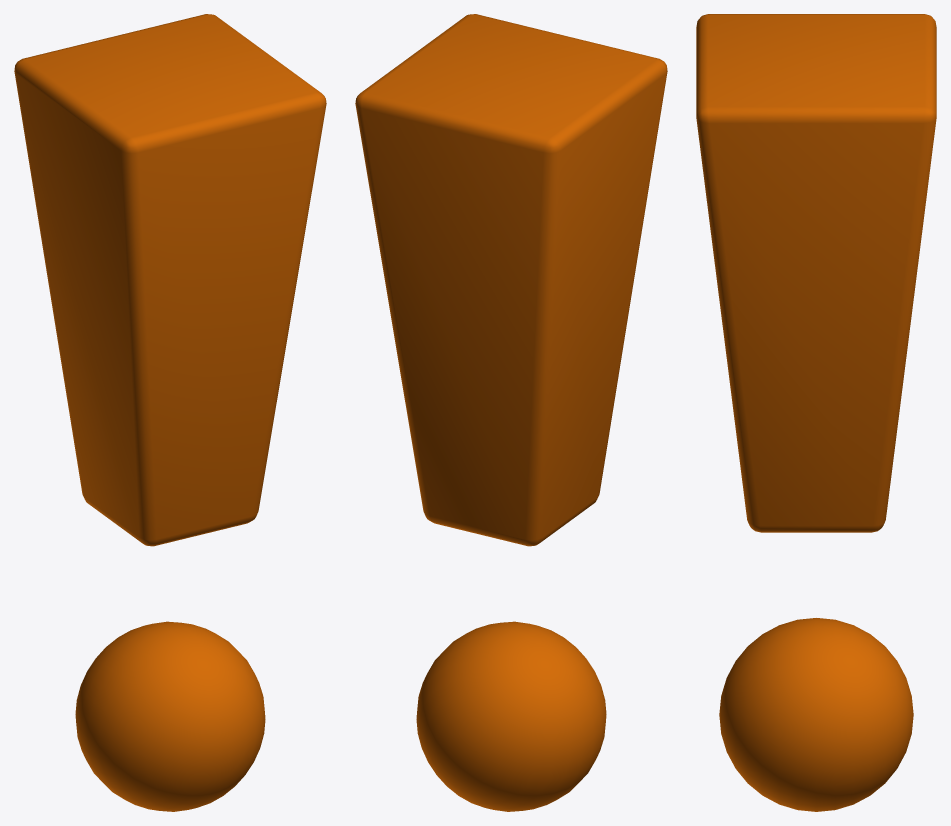
Rendered from HinweisSymbol.glb.
3 renders of one model, left to right at view 1: azimuth 30°, elevation 25°; view 2: azimuth 150°, elevation 25°; view 3: azimuth 270°, elevation 25°, orthographic. The views are drawn at different scales.
Parts seen in each view (by area): view 1: Cube; view 2: Cube; view 3: Cube.
Boxes of the visible parts, <box> form: Cube: <box>14,14,326,811</box>; Cube: <box>355,14,667,811</box>; Cube: <box>696,14,936,811</box>.
Bounding box in the file's own units: 1.5 × 5.1 × 1.5.
1 material, 1 textured.
